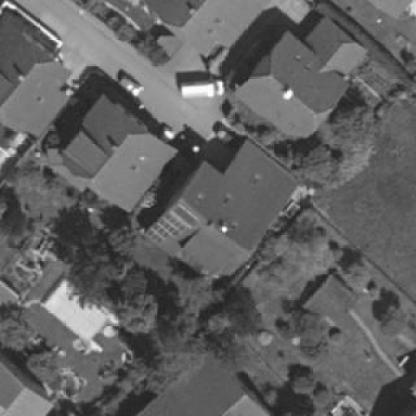solar-pv-panel: (147, 212, 189, 247), (172, 204, 200, 229)
